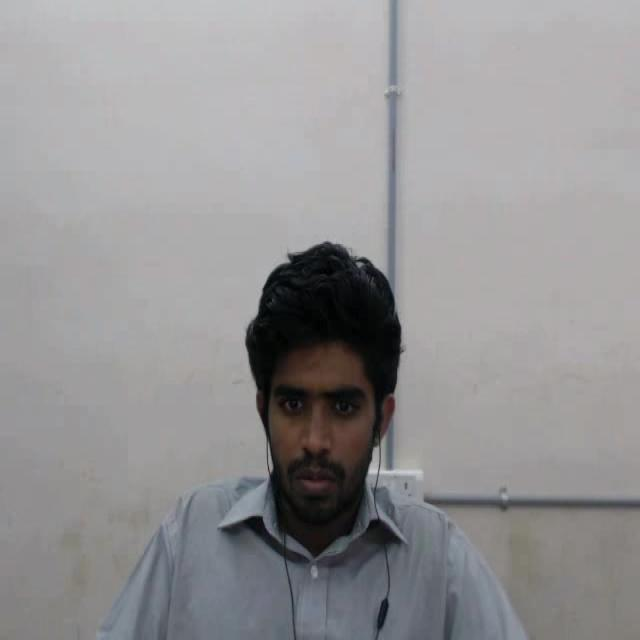Engaged: (226, 218, 437, 586)
